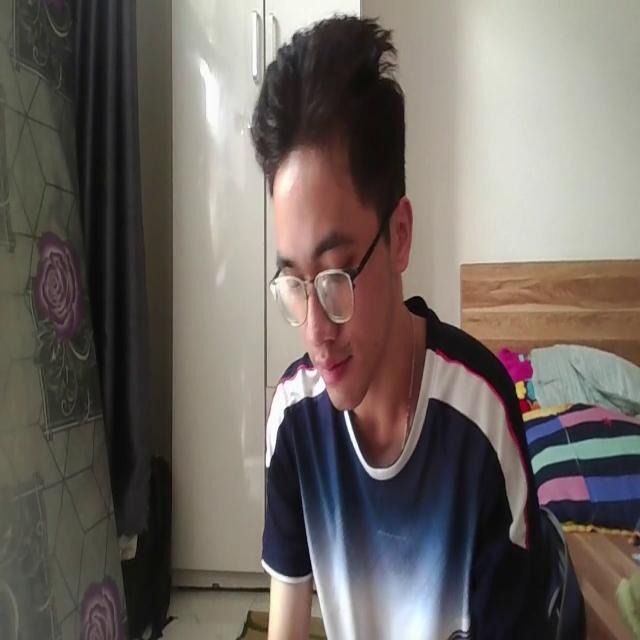student: (241, 8, 553, 640)
